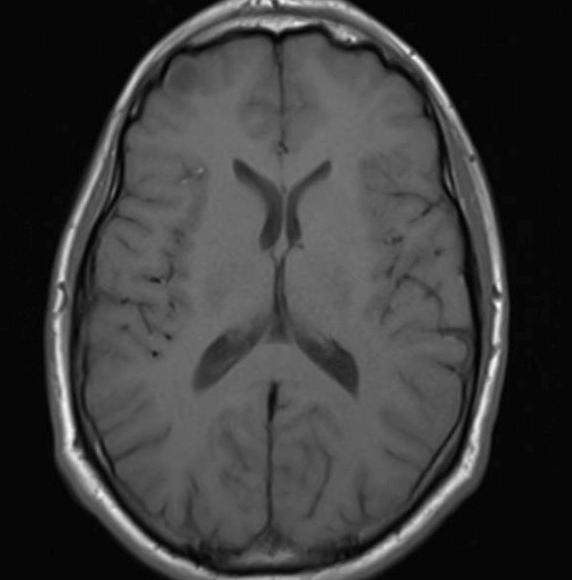Normal_Brain: (1, 1, 572, 580)
